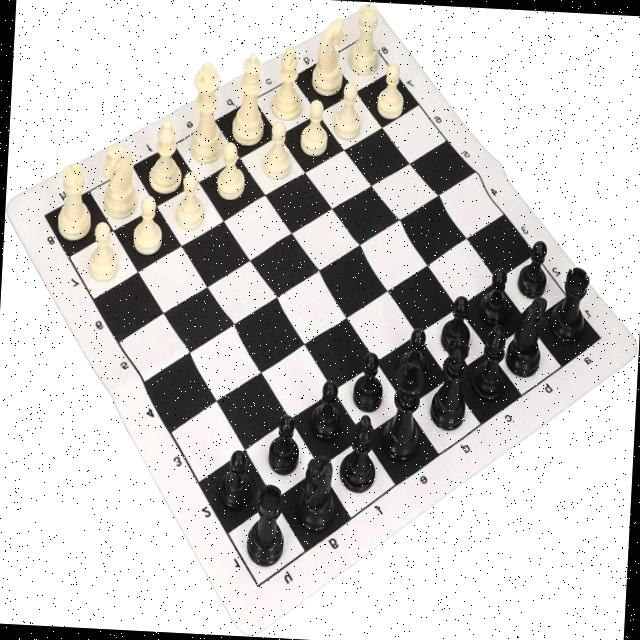corners: (5, 192, 16, 224), (630, 331, 640, 364), (242, 620, 260, 637)
